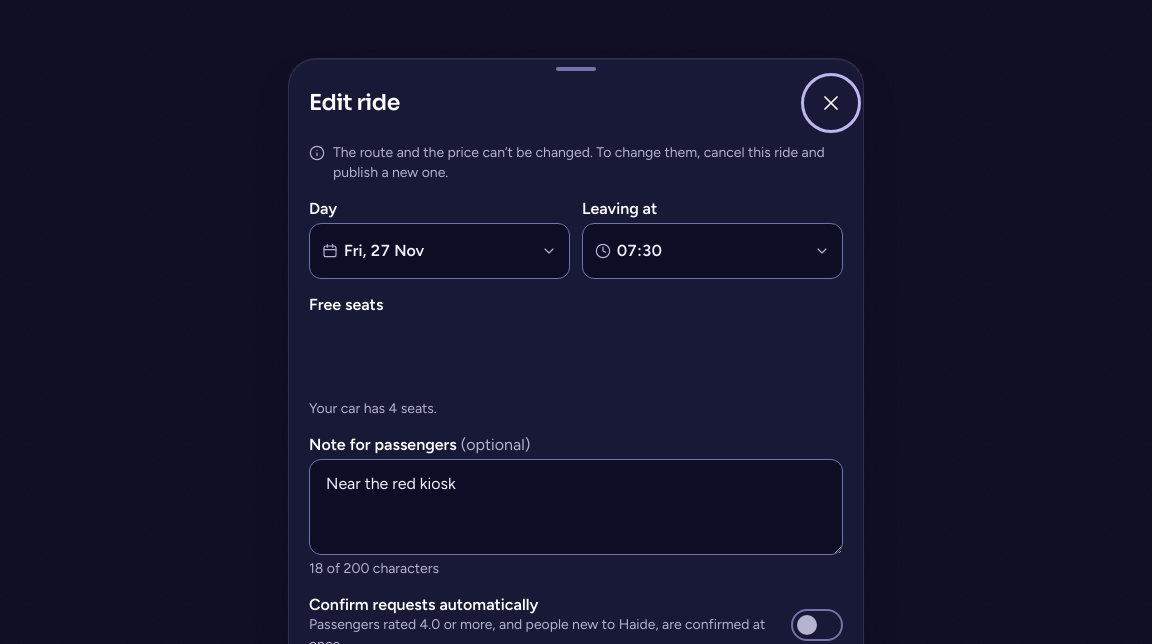
Test case: EditRideSheet › shows RIDE_NOT_EDITABLE as a banner and keeps the sheet open
The width and height of the screenshot is (1152, 644).
Click the radio button named "2 seats" at (417, 401), box [392,392,443,411]
(page scrolled)
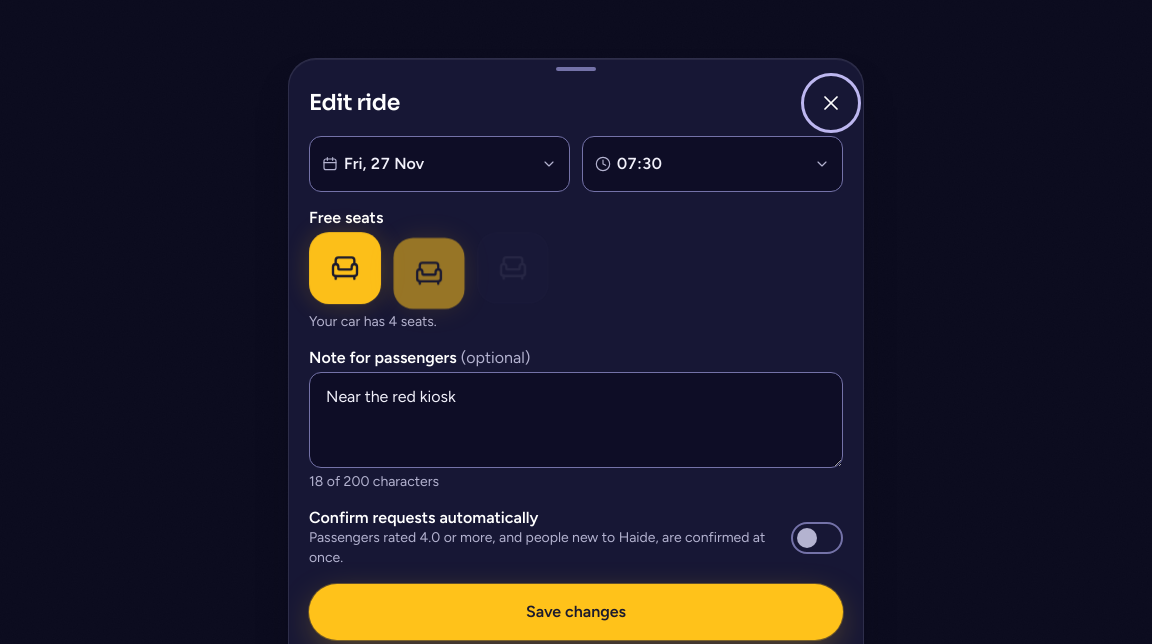
Click the button "Save changes" at (576, 612), box [309,584,843,640]
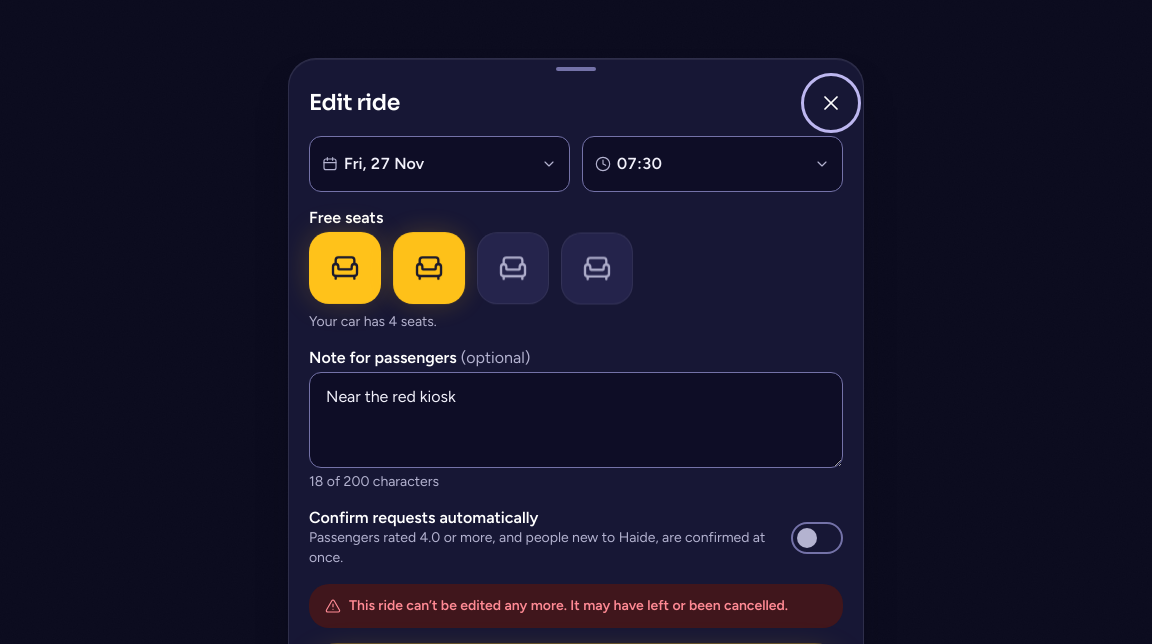
Expected: the text "can’t be edited any more" is shown, [349,597,788,614]
